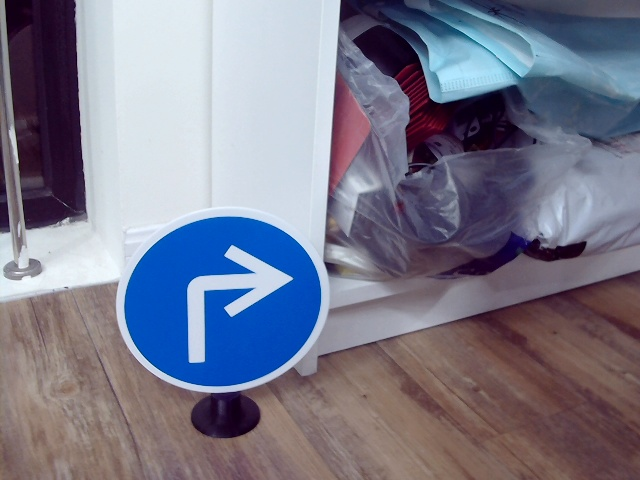turn_right: (176, 240, 289, 367)
